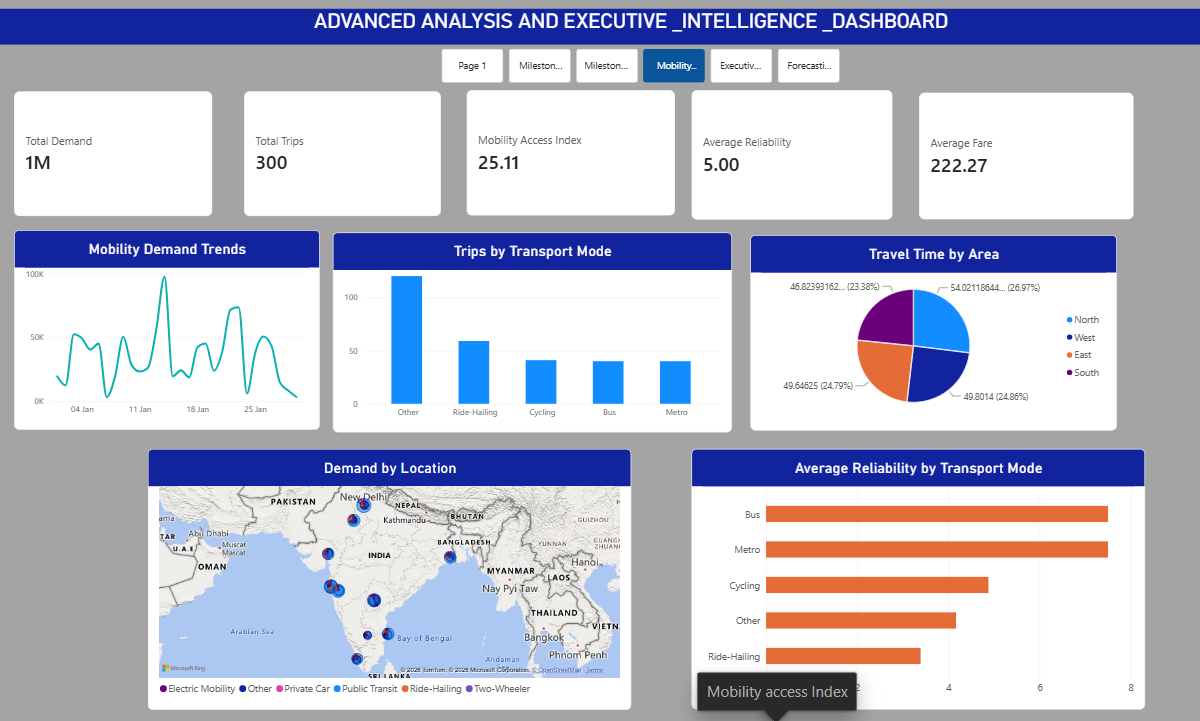

What the dashboard file says about the page in this screenshot:
{"tool":"powerbi","page":{"name":"Mobility access Index","canvas":[1920,1080],"ordinal":3},"visuals":[{"type":"cardVisual","fields":{"Data":["FactMobilityTable.Total Demand"]},"box":[51.5,141.7,292.6,184.1],"z":0},{"type":"cardVisual","fields":{"Data":["FactMobilityTable.Total Trips"]},"box":[390.2,141.7,290.8,184.1],"z":1000},{"type":"cardVisual","fields":{"Data":["FactMobilityTable.Mobility Access Index"]},"box":[717.8,139.9,307.4,185.9],"z":2000},{"type":"cardVisual","fields":{"Data":["FactMobilityTable.Average Reliability"]},"box":[1049.1,139.9,296.3,191.4],"z":3000},{"type":"cardVisual","fields":{"Data":["FactMobilityTable.Average Fare"]},"box":[1384.1,143.6,316.6,187.7],"z":4000},{"type":"lineChart","title":"Mobility Demand Trends","fields":{"Y":["FactMobilityTable.Total Demand"],"Category":["Dim_Date.Date"]},"box":[51.5,346,450,294],"z":5000},{"type":"clusteredColumnChart","title":"Trips by Transport Mode","fields":{"Category":["FactMobilityTable.Transport_Mode"],"Y":["FactMobilityTable.Total Trips"]},"box":[520.9,349.7,588,294],"z":6000},{"type":"clusteredBarChart","title":"Average Reliability by Transport Mode","fields":{"Category":["FactMobilityTable.Transport_Mode"],"Y":["FactMobilityTable.Average Reliability"]},"box":[1050,668,668,384],"z":7000},{"type":"pieChart","title":"Travel Time by Area","fields":{"Category":["Dim_Location.Area"],"Y":["FactMobilityTable.Average Travel Time"]},"box":[1135.6,353.4,540,288],"z":8000},{"type":"textbox","title":"ADVANCED ANALYSIS AND EXECUTIVE _INTELLIGENCE _DASHBOARD  ","box":[0,20.2,1920,58],"z":9000},{"type":"map","title":"Demand by Location","fields":{"Category":["Dim_Location.Location"],"Y":["Avg(Dim_Location.Latitude)"],"X":["Avg(Dim_Location.Longitude)"],"Size":["FactMobilityTable.Total Demand"],"Series":["FactMobilityTable.Mobility Mode"]},"box":[248.5,668.1,712.3,384.7],"z":10000},{"type":"pageNavigator","box":[681,79.1,590,50],"z":11000}]}

Visuals, with their boxes on the page's 1920x1080 design canvas (x1, y1, x2, y2). These are canvas units, not pixel positions in the 1200x721 screenshot, which may show the page scaled, cropped or inside an application window:
cardVisual - FactMobilityTable.Total Demand: locate(52, 142, 344, 326)
cardVisual - FactMobilityTable.Total Trips: locate(390, 142, 681, 326)
cardVisual - FactMobilityTable.Mobility Access Index: locate(718, 140, 1025, 326)
cardVisual - FactMobilityTable.Average Reliability: locate(1049, 140, 1345, 331)
cardVisual - FactMobilityTable.Average Fare: locate(1384, 144, 1701, 331)
"Mobility Demand Trends" lineChart: locate(52, 346, 502, 640)
"Trips by Transport Mode" clusteredColumnChart: locate(521, 350, 1109, 644)
"Average Reliability by Transport Mode" clusteredBarChart: locate(1050, 668, 1718, 1052)
"Travel Time by Area" pieChart: locate(1136, 353, 1676, 641)
"ADVANCED ANALYSIS AND EXECUTIVE _INTELLIGENCE _DASHBOARD  " textbox: locate(0, 20, 1920, 78)
"Demand by Location" map: locate(248, 668, 961, 1053)
pageNavigator: locate(681, 79, 1271, 129)
